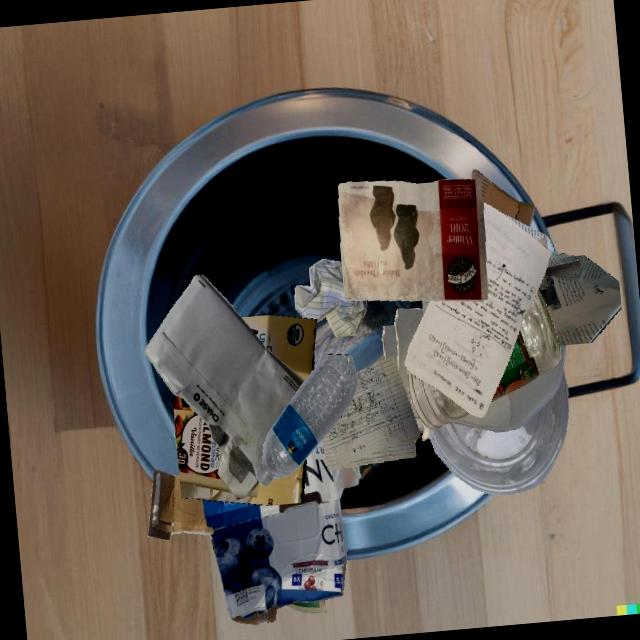cardboard: (147, 440, 346, 624), (405, 325, 565, 437), (173, 394, 306, 505), (451, 345, 565, 432), (241, 314, 316, 381), (471, 169, 534, 227), (393, 356, 423, 441), (381, 325, 397, 368)
glass: (490, 288, 561, 402), (407, 370, 470, 428)
paper: (144, 274, 304, 498), (404, 202, 550, 417), (337, 179, 487, 300), (498, 211, 621, 346), (321, 356, 420, 470), (294, 259, 366, 337), (331, 465, 361, 501), (287, 599, 326, 612)
plastic: (428, 369, 568, 494), (255, 354, 357, 486), (174, 432, 176, 446)
